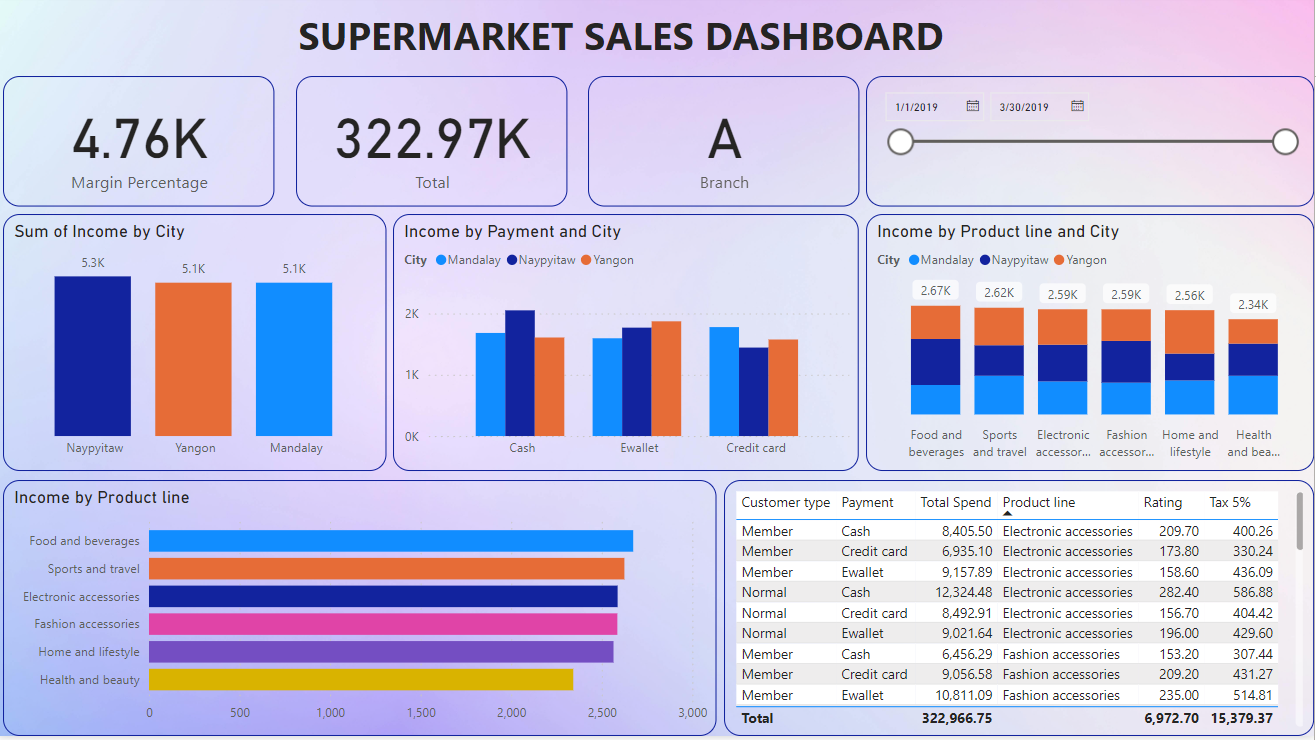

The dashboard page shown, as its layout file describes it:
{"tool":"powerbi","page":{"name":"Page 1","canvas":[1280,720],"ordinal":0},"visuals":[{"type":"columnChart","title":"Sum of Income by City","fields":{"Category":["supermarket_sales - Sheet1.City"],"Y":["Sum(supermarket_sales - Sheet1.gross income)"]},"box":[4.9,212,372.5,250],"z":0},{"type":"clusteredColumnChart","title":"Income by Payment and City","fields":{"Category":["supermarket_sales - Sheet1.Payment"],"Series":["supermarket_sales - Sheet1.City"],"Y":["Sum(supermarket_sales - Sheet1.gross income)"]},"box":[384.2,212,453.3,250],"z":1000},{"type":"card","fields":{"Values":["Sum(supermarket_sales - Sheet1.gross margin percentage)"]},"box":[4.9,77.8,263.6,127.4],"z":2000},{"type":"barChart","title":"Income by Product line","fields":{"Category":["supermarket_sales - Sheet1.Product line"],"Y":["Sum(supermarket_sales - Sheet1.gross income)"]},"box":[4.9,470.8,694.5,249],"z":3000},{"type":"lineStackedColumnComboChart","title":"Income by Product line and City","fields":{"Category":["supermarket_sales - Sheet1.Product line"],"Y":["Sum(supermarket_sales - Sheet1.gross income)"],"Series":["supermarket_sales - Sheet1.City"]},"box":[844.3,212,435.7,250],"z":4000},{"type":"tableEx","fields":{"Values":["supermarket_sales - Sheet1.Customer type","supermarket_sales - Sheet1.Payment","Sum(supermarket_sales - Sheet1.Total)","supermarket_sales - Sheet1.Product line","Sum(supermarket_sales - Sheet1.Rating)","Sum(supermarket_sales - Sheet1.Tax 5%)"]},"box":[706.1,470.8,573.9,249],"z":5000},{"type":"textbox","box":[286.9,7.8,646.8,59.3],"z":6000},{"type":"slicer","fields":{"Values":["supermarket_sales - Sheet1.Date"]},"box":[844.3,77.8,435.7,127.4],"z":7000},{"type":"card","fields":{"Values":["Sum(supermarket_sales - Sheet1.Total)"]},"box":[289.8,77.8,263.6,127.4],"z":8000},{"type":"card","fields":{"Values":["Min(supermarket_sales - Sheet1.Branch)"]},"box":[573.9,77.8,263.6,127.4],"z":9000}]}

Visuals, with their boxes in screenshot pixels (x1, y1, x2, y2), scaled from the page's 1280x720 canvas onto the 1316x740 screenshot:
"Sum of Income by City" columnChart: [5,218,388,475]
"Income by Payment and City" clusteredColumnChart: [395,218,861,475]
card - Sum(supermarket_sales - Sheet1.gross margin percentage): [5,80,276,211]
"Income by Product line" barChart: [5,484,719,739]
"Income by Product line and City" lineStackedColumnComboChart: [868,218,1315,475]
tableEx - supermarket_sales - Sheet1.Customer type x supermarket_sales - Sheet1.Payment: [726,484,1315,739]
textbox: [295,8,960,69]
slicer - supermarket_sales - Sheet1.Date: [868,80,1315,211]
card - Sum(supermarket_sales - Sheet1.Total): [298,80,569,211]
card - Min(supermarket_sales - Sheet1.Branch): [590,80,861,211]
